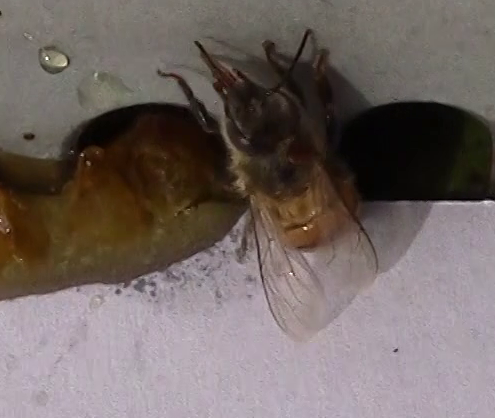Healthy: (155, 32, 380, 346)
